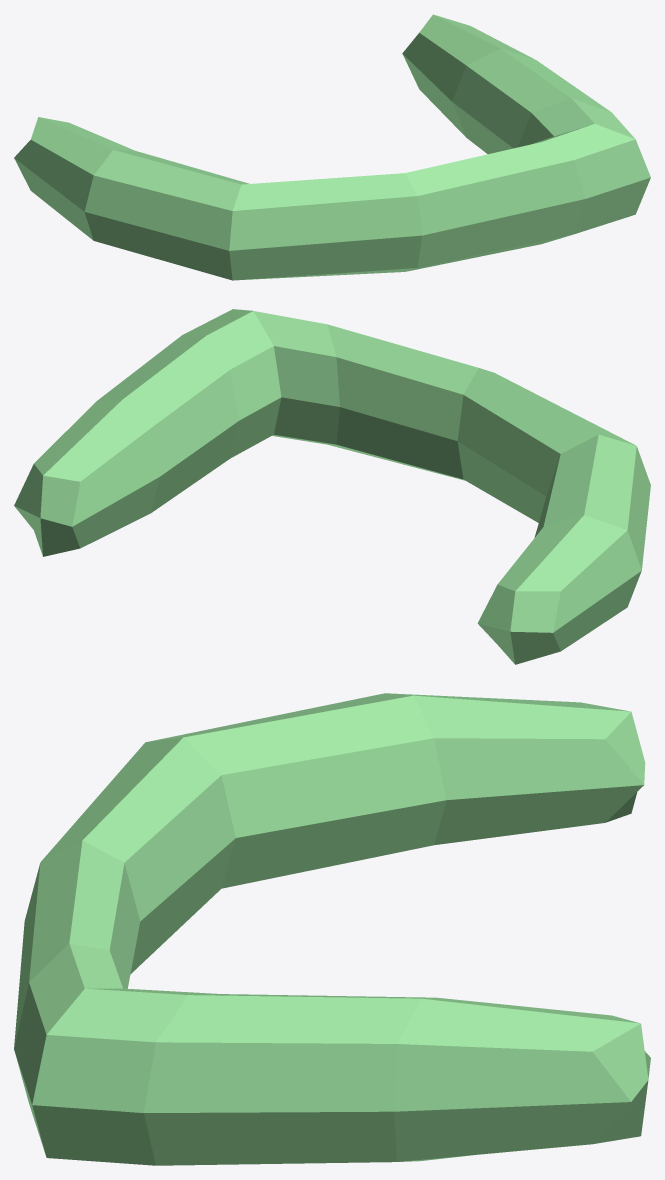
The model's file is lever2.glb.
3 views of the same model, one above another, from view 1: azimuth 30°, elevation 25°; view 2: azimuth 150°, elevation 25°; view 3: azimuth 270°, elevation 25° (orthographic). The views are drawn at different scales.
Parts seen in each view (by area): view 1: Cube.021; view 2: Cube.021; view 3: Cube.021.
Boxes of the visible parts, <box> form: Cube.021: <box>14,14,650,280</box>; Cube.021: <box>14,309,650,664</box>; Cube.021: <box>14,693,650,1165</box>.
Bounding box in the file's own units: 0.28 × 0.0591 × 0.2011.
